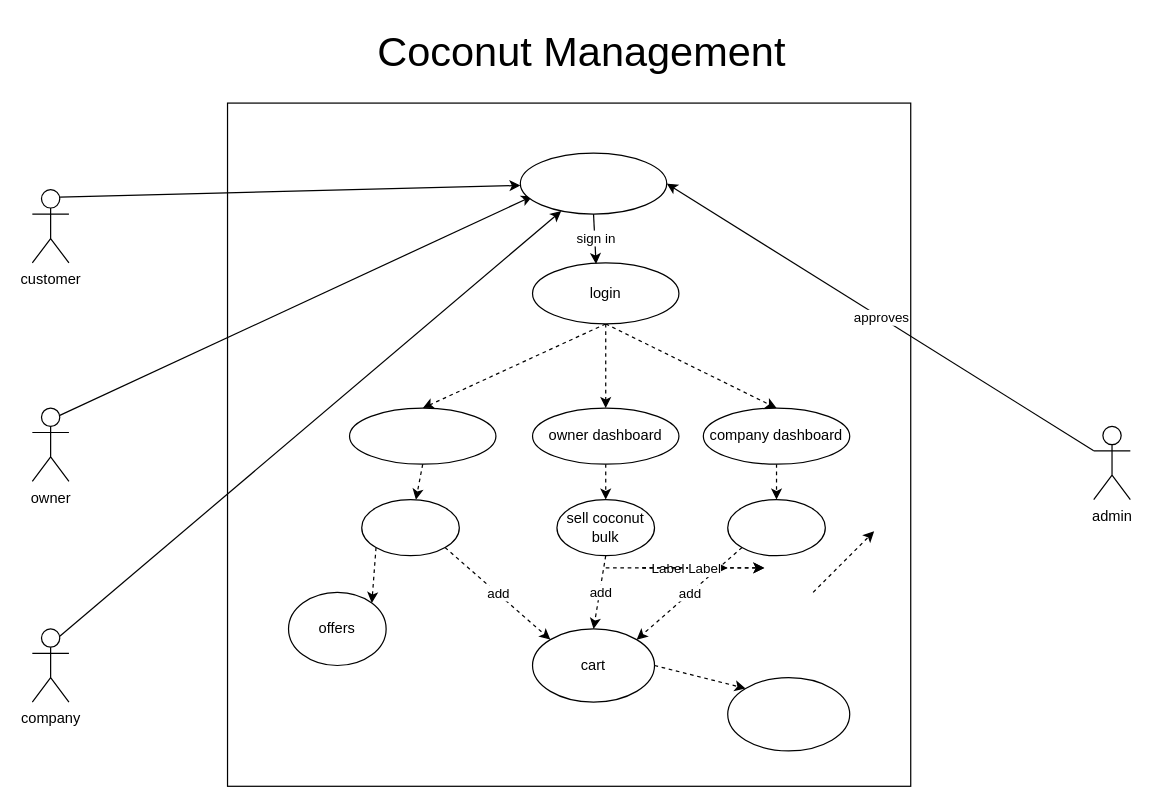
The diagram is 1153 pixels wide and 808 high, and some of its shapes have lost their labels. The centre of each missing label's shape, as x and y in pixels:
"buy bulk coconut" belongs at (776,527).
"customer Dashboard" belongs at (422,435).
"receipts" belongs at (788,713).
"register as a new user" belongs at (593,183).
"select coconuts" belongs at (410,527).
